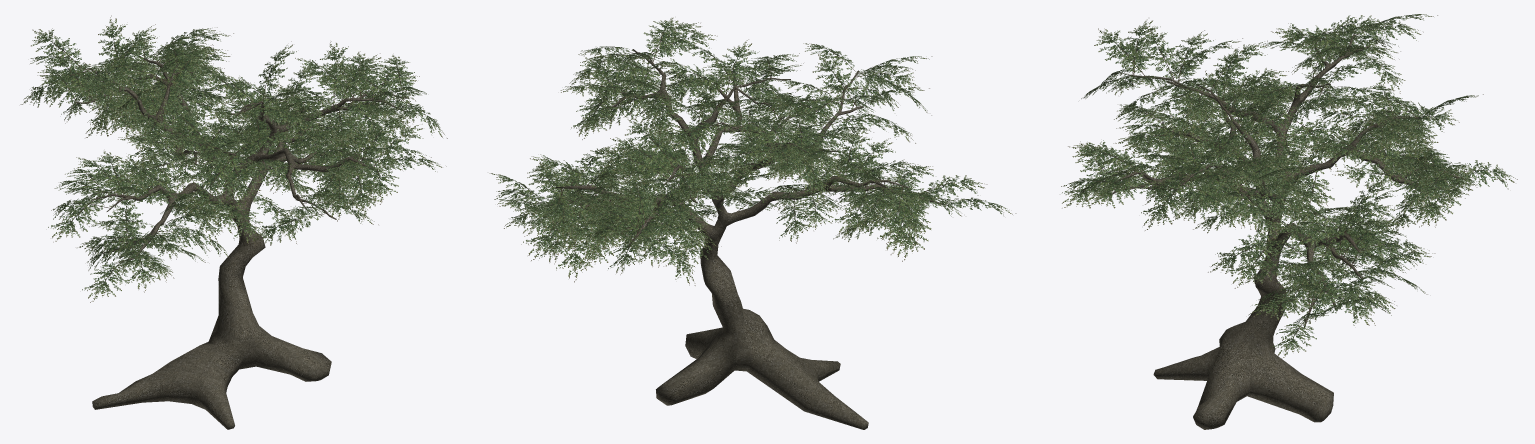
Rendered from mg_9_tree_0.fbx.
3 renders of one model, left to right at view 1: azimuth 30°, elevation 25°; view 2: azimuth 150°, elevation 25°; view 3: azimuth 270°, elevation 25°, orthographic. The views are drawn at different scales.
Visible parts, largest first — view 1: mg_9_tree_0; view 2: mg_9_tree_0; view 3: mg_9_tree_0.
Boxes of the visible parts, x1=… form: mg_9_tree_0: x1=20, y1=15, x2=447, y2=429; mg_9_tree_0: x1=489, y1=17, x2=1016, y2=429; mg_9_tree_0: x1=1061, y1=14, x2=1517, y2=429.
Size of the model in its own units: 2768 by 1932 by 2425.
